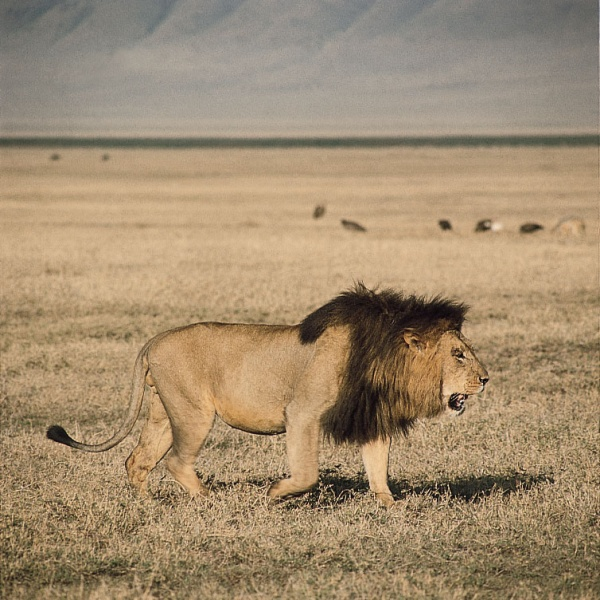Lion: (46, 287, 493, 513)
